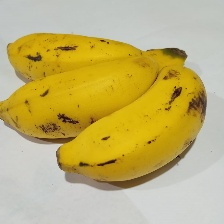banana: (63, 14, 201, 175)
